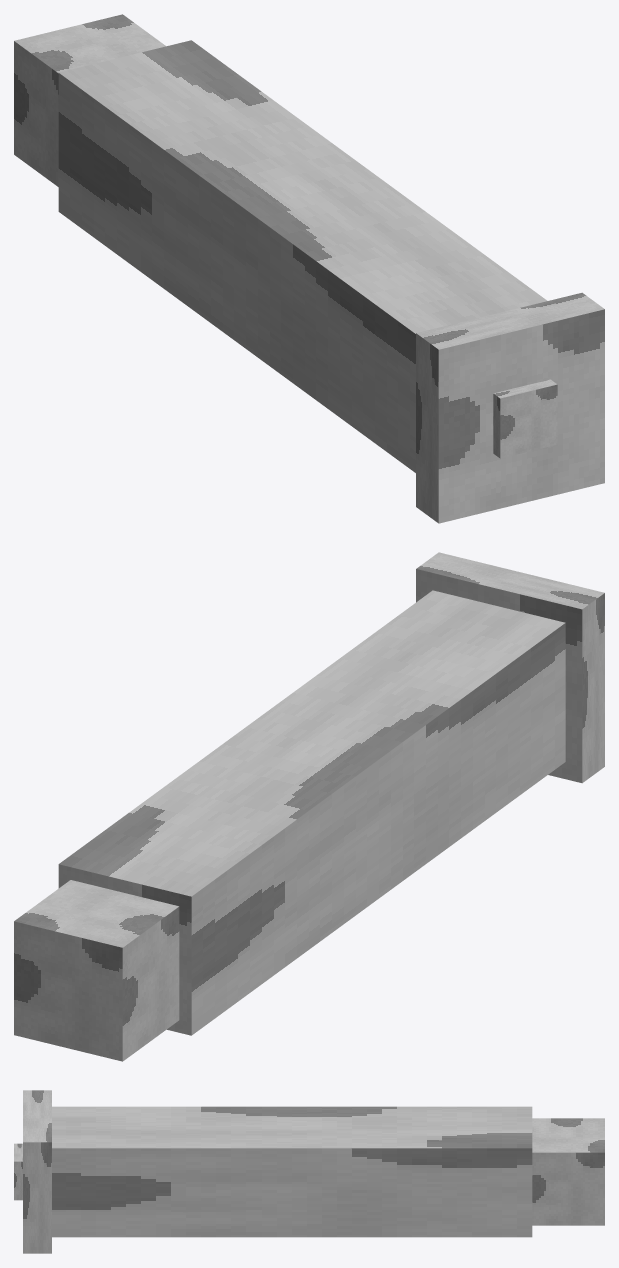
File: round_live.obj
3 renders of one model, top to bottom at view 1: azimuth 30°, elevation 25°; view 2: azimuth 150°, elevation 25°; view 3: azimuth 270°, elevation 25°, orthographic. The views are drawn at different scales.
Parts seen in each view (by area): view 1: part0, part1, part3, part2; view 2: part0, part3, part1; view 3: part0, part3, part1, part2.
Boxes of the visible parts, x1,y1,x2,y2 form: part0: (58, 40, 547, 472); part1: (416, 292, 604, 523); part3: (14, 14, 165, 186); part2: (493, 379, 557, 458); part0: (58, 590, 565, 1035); part3: (14, 880, 179, 1061); part1: (416, 552, 604, 783); part0: (52, 1106, 532, 1237); part3: (532, 1118, 604, 1225); part1: (23, 1090, 51, 1253); part2: (14, 1143, 22, 1200).
Size of the model in its own units: 0.011 by 0.011 by 0.0528.
Materials: 4 (4 with a texture image).
